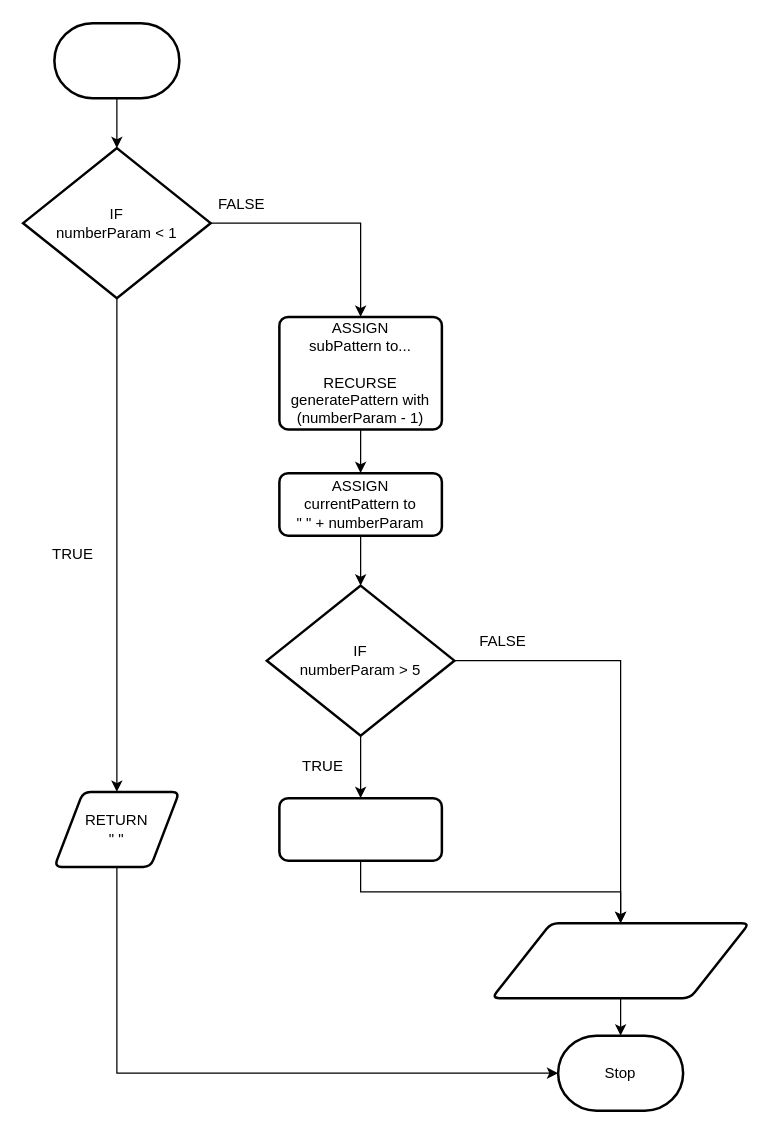
Image size: 771x1133. Some labels were removed from this diagram. The shapes that lost their labels are listed below. From the top down, each one's centre as x and y in pixels, then its label:
point (116, 60): Start
point (360, 828): ADD "\n" to currentPattern
point (620, 960): RETURN subPattern + currentPattern + subPattern
